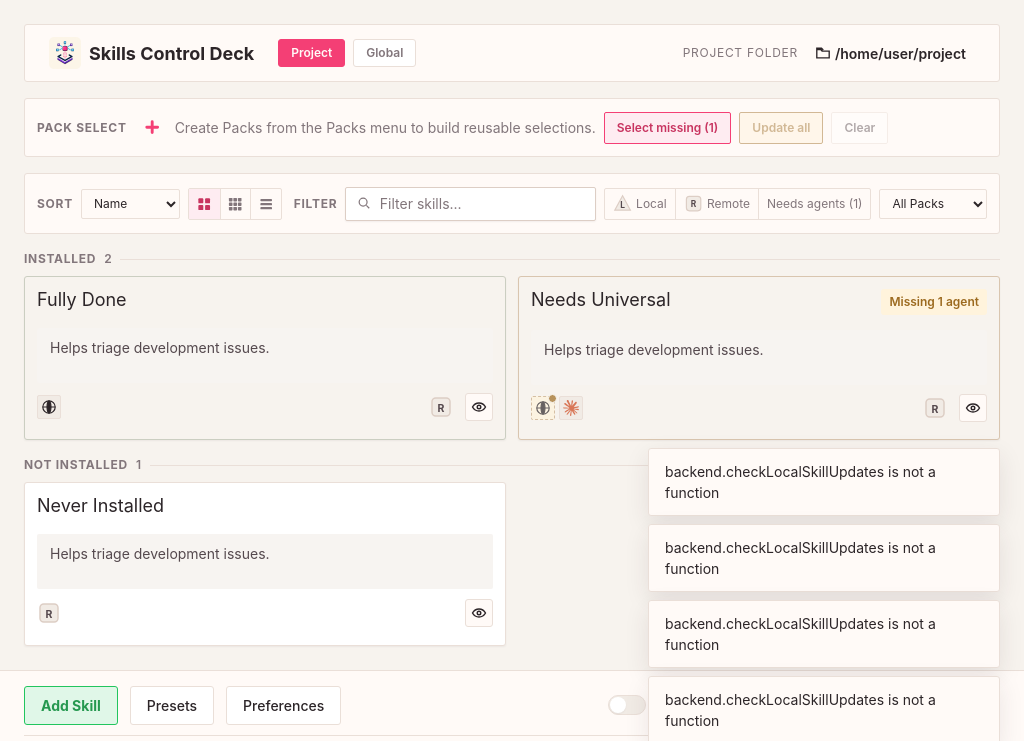
Test: App › Needs agents only counts Skills already installed but missing one of the targeted agents, not fresh installs
This screenshot has width=1024, height=741.
Click the button "Needs agents (1)". click: (814, 204)
box: [758, 188, 870, 219]
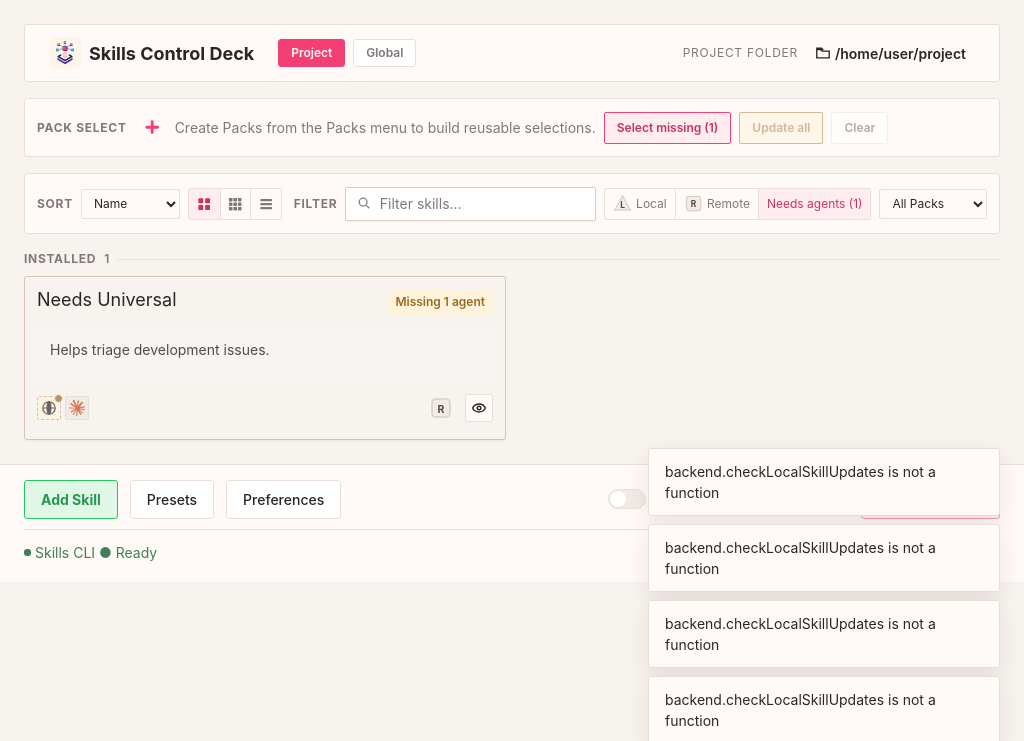
Now the elements with class "skill-card__title" read "Needs Universal", in this order, box [37, 289, 176, 312]
